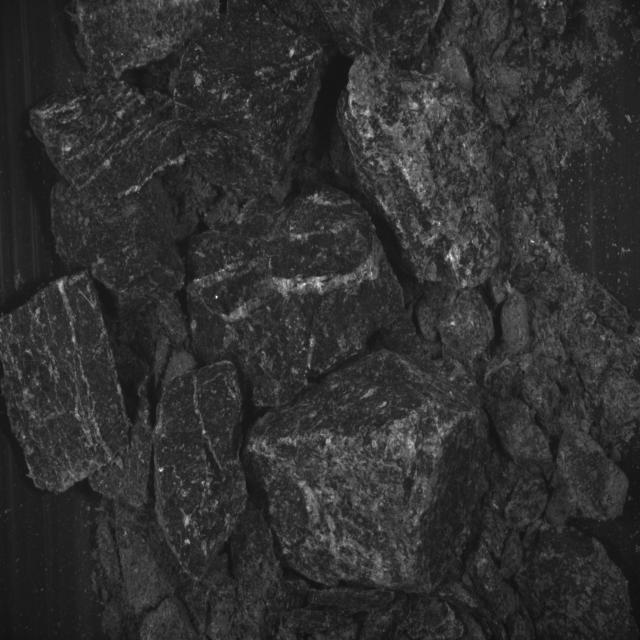Stones: (245, 351, 486, 593), (189, 189, 405, 408), (339, 55, 501, 289), (31, 82, 185, 309), (175, 3, 324, 199), (1, 273, 130, 493), (155, 362, 249, 580), (31, 82, 184, 205), (71, 1, 221, 80), (547, 430, 630, 526), (320, 1, 445, 63), (417, 287, 495, 374), (432, 496, 435, 498)
